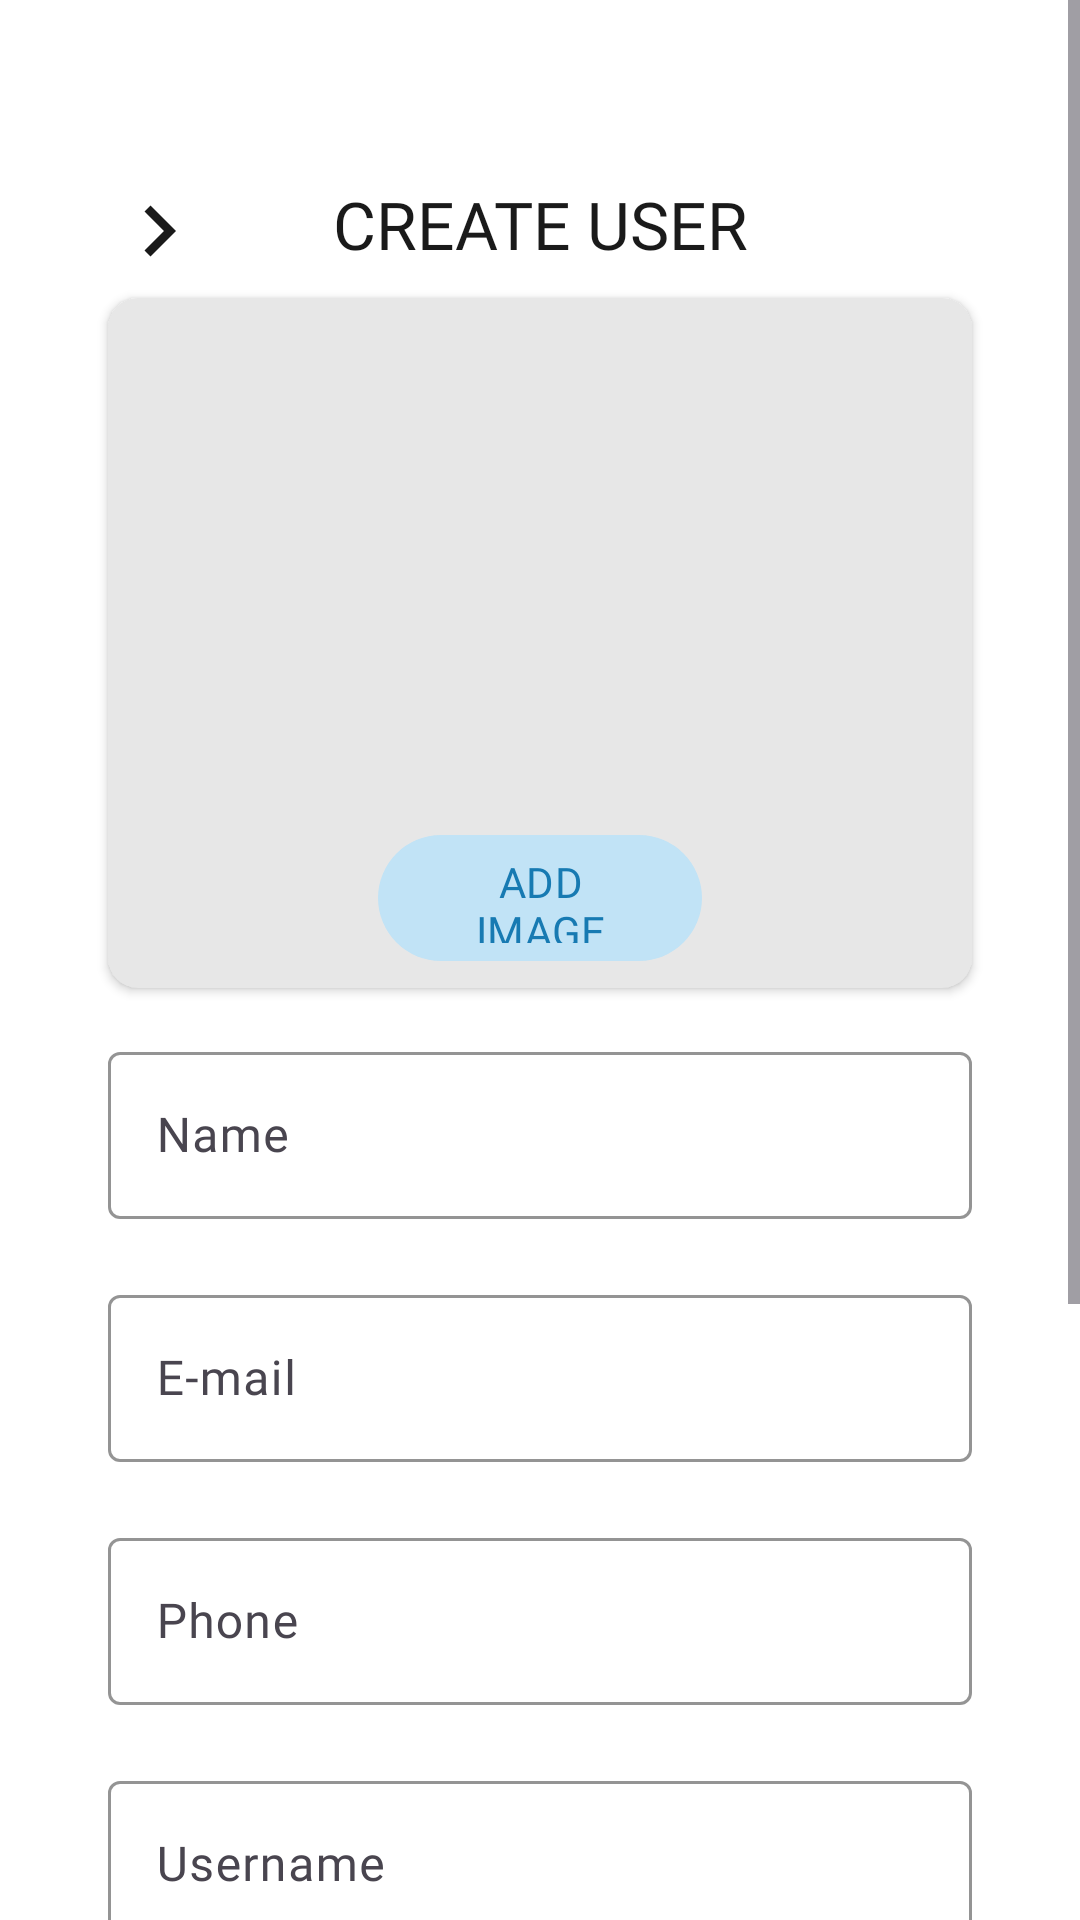

Icon bounding boxes for this 1080 x 1920 phone screenshot, format (x1, y1, x2, y2):
keyboard arrow right: (144, 205, 176, 257)
